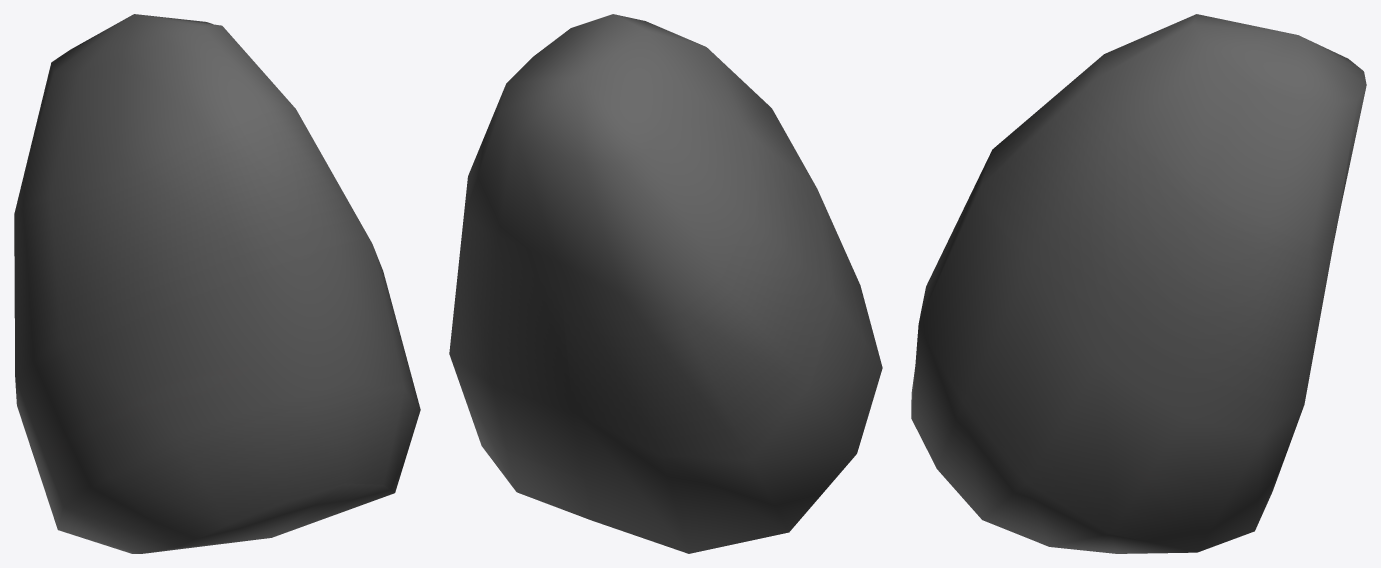
The model's file is Rock3.fbx.
3 views of the same model, side by side, from view 1: azimuth 30°, elevation 25°; view 2: azimuth 150°, elevation 25°; view 3: azimuth 270°, elevation 25° (orthographic). The views are drawn at different scales.
Parts seen in each view (by area): view 1: Rock3; view 2: Rock3; view 3: Rock3.
Part boxes in pixels (x1=…): Rock3: x1=14, y1=14, x2=420, y2=553; Rock3: x1=449, y1=14, x2=882, y2=553; Rock3: x1=911, y1=14, x2=1366, y2=553.
Bounding box in the file's own units: 51.76 × 70.17 × 56.95.
